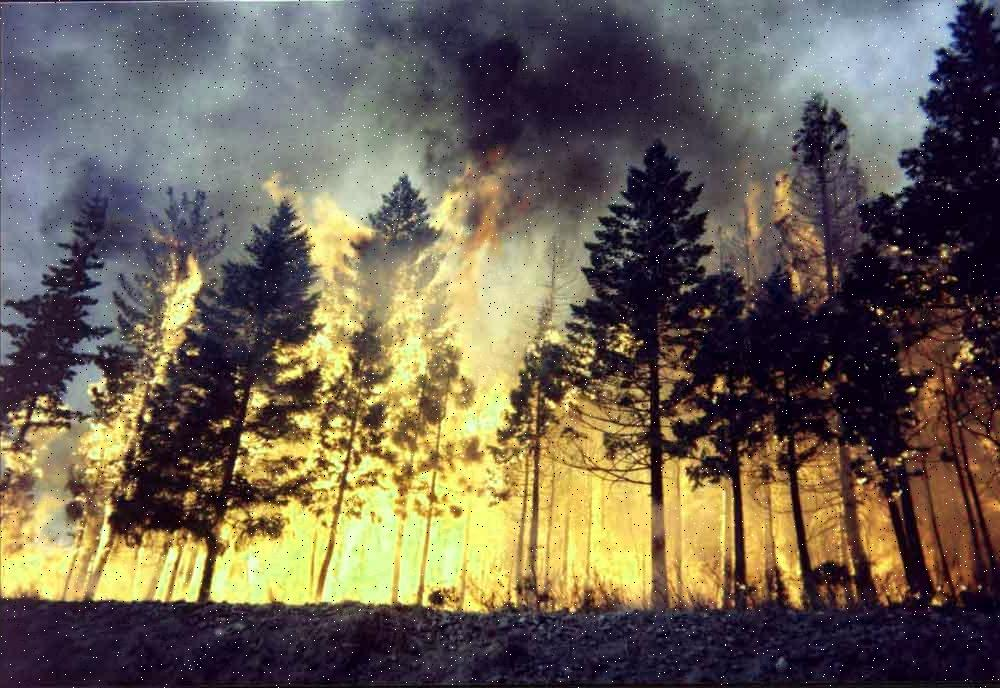fire: (0, 103, 998, 626)
